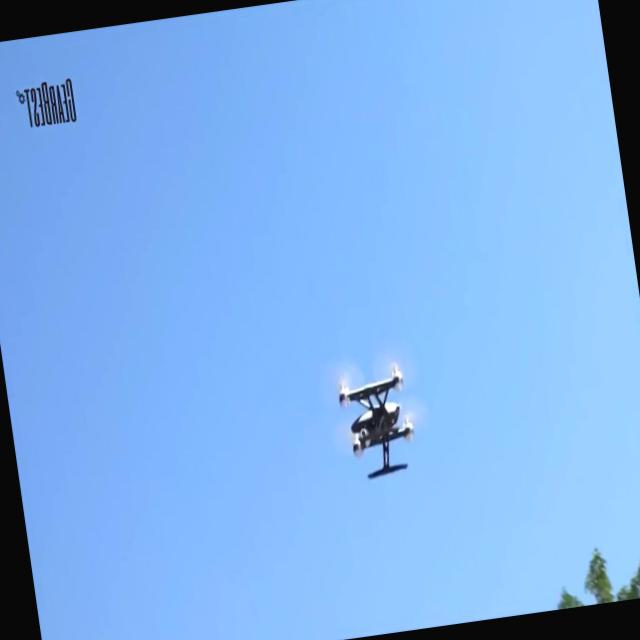drone: (328, 356, 422, 486)
